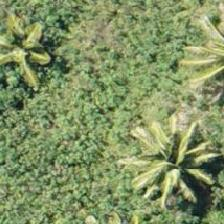coconut_tree: (136, 94, 223, 184), (156, 117, 223, 207), (0, 6, 53, 96)
